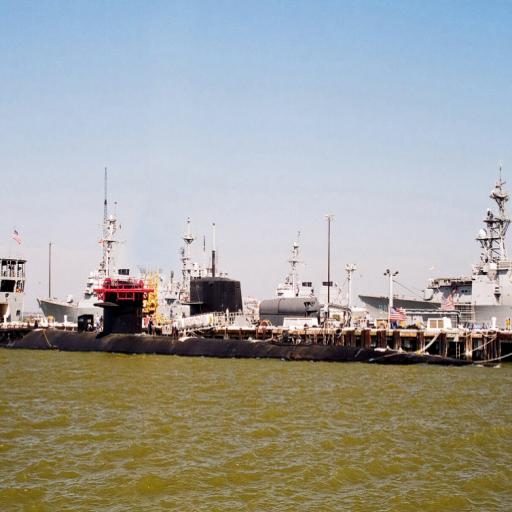submarine: (1, 278, 484, 368)
